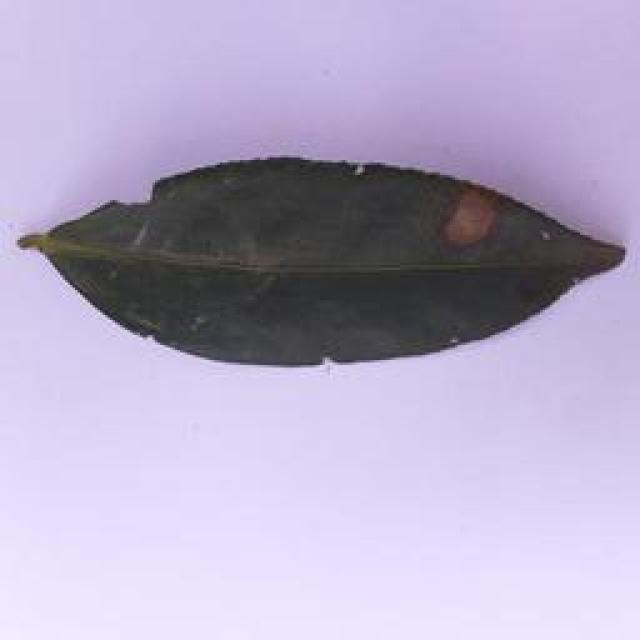Gray Blight: (11, 148, 634, 376)
